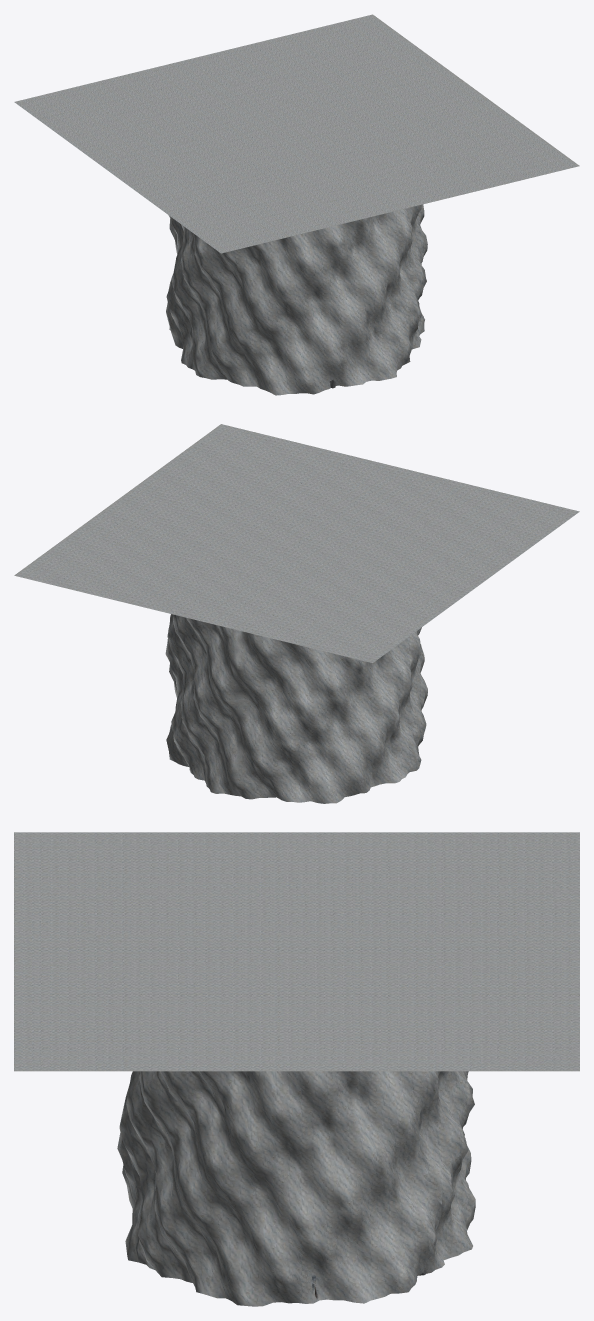
File: room.glb
3 renders of one model, top to bottom at view 1: azimuth 30°, elevation 25°; view 2: azimuth 150°, elevation 25°; view 3: azimuth 270°, elevation 25°, orthographic. The views are drawn at different scales.
Parts seen in each view (by area): view 1: VAIR-1; view 2: VAIR-1; view 3: VAIR-1.
Boxes of the visible parts, box(x1,y1,x2,y2) form: VAIR-1: box(14, 14, 579, 395); VAIR-1: box(14, 424, 579, 803); VAIR-1: box(14, 832, 579, 1306).
Bounding box in the file's own units: 136 × 75 × 136.
1 material, 1 textured.
